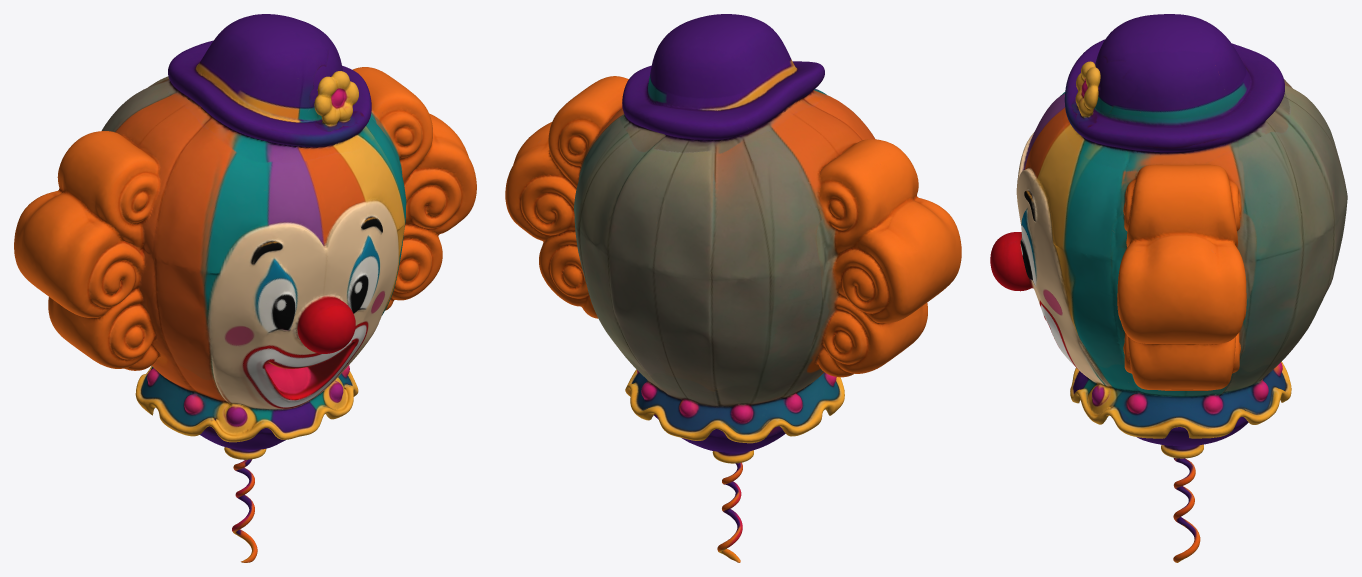
Rendered from balloon-clown-delight.glb.
The picture shows the model from 3 angles, left to right: view 1: azimuth 30°, elevation 25°; view 2: azimuth 150°, elevation 25°; view 3: azimuth 270°, elevation 25°; orthographic projection. The views are drawn at different scales.
Parts seen in each view (by area): view 1: mesh_node; view 2: mesh_node; view 3: mesh_node.
Part boxes in pixels (left/top/right/bottom): mesh_node: left=14, top=14, right=476, bottom=562; mesh_node: left=505, top=14, right=961, bottom=562; mesh_node: left=990, top=14, right=1347, bottom=562.
Size of the model in its own units: 1.58 by 1.9 by 1.12.
1 material, 1 textured.
